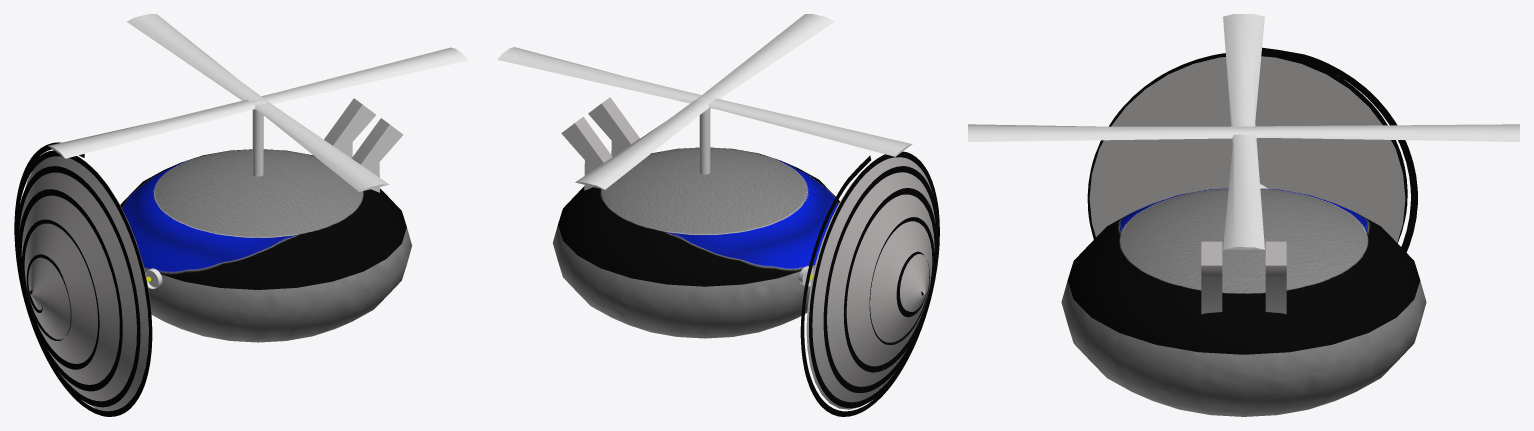
The model's file is Driller_Rotor.fbx.
The picture shows the model from 3 angles, left to right: view 1: azimuth 30°, elevation 25°; view 2: azimuth 150°, elevation 25°; view 3: azimuth 270°, elevation 25°; orthographic projection. The views are drawn at different scales.
Parts seen in each view (by area): view 1: Kugel, Driller, drilling, Würfel_1, Würfel_2, Deckfläche_1, Deckfläche_1_2, Zylinder_2, Extrude_NURBS_2, Extrude_NURBS; view 2: Kugel, Driller, drilling, Würfel_1, Würfel_2, Deckfläche_2_2, Deckfläche_2, Zylinder_2, Extrude_NURBS, Extrude_NURBS_2; view 3: Kugel, Driller, Würfel_2, Würfel_1, drilling, Extrude_NURBS, Extrude_NURBS_2.
Boxes of the visible parts, x1,y1,x2,y2 form: Kugel: (120, 149, 411, 342); Driller: (19, 156, 152, 411); drilling: (14, 142, 152, 416); Würfel_1: (48, 47, 468, 158); Würfel_2: (127, 14, 389, 191); Deckfläche_1: (361, 124, 403, 192); Deckfläche_1_2: (333, 105, 375, 158); Zylinder_2: (252, 109, 263, 176); Extrude_NURBS_2: (324, 98, 362, 145); Extrude_NURBS: (352, 118, 389, 164); Kugel: (553, 147, 839, 338); Driller: (806, 157, 935, 409); drilling: (800, 151, 939, 416); Würfel_1: (497, 47, 912, 156); Würfel_2: (575, 14, 834, 189); Deckfläche_2_2: (561, 123, 603, 190); Deckfläche_2: (588, 103, 630, 156); Zylinder_2: (699, 108, 710, 174); Extrude_NURBS: (601, 97, 639, 144); Extrude_NURBS_2: (575, 117, 612, 162); Kugel: (1061, 188, 1426, 416); Driller: (1089, 56, 1405, 242); Würfel_2: (968, 124, 1519, 141); Würfel_1: (1223, 14, 1264, 249); drilling: (1087, 47, 1417, 252); Extrude_NURBS: (1201, 241, 1222, 314); Extrude_NURBS_2: (1265, 241, 1286, 314).
Bounding box in the file's own units: 874 × 523 × 826.
7 materials, 1 textured.
